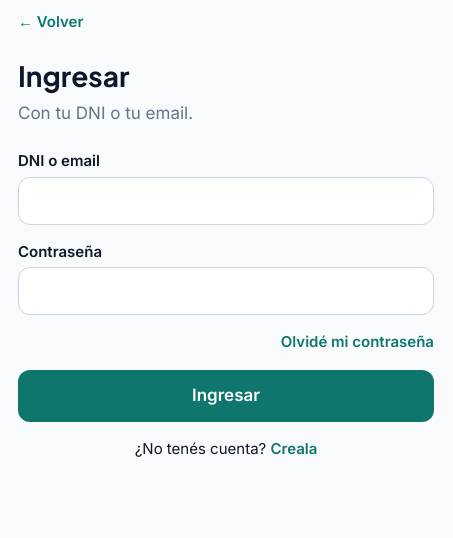
Ingreso (CU-03) › credenciales incorrectas: mensaje genérico
This screenshot has width=453, height=538.
Type "30123456" into the field labelled "DNI o email". click: (226, 200)
box: [18,176,434,224]
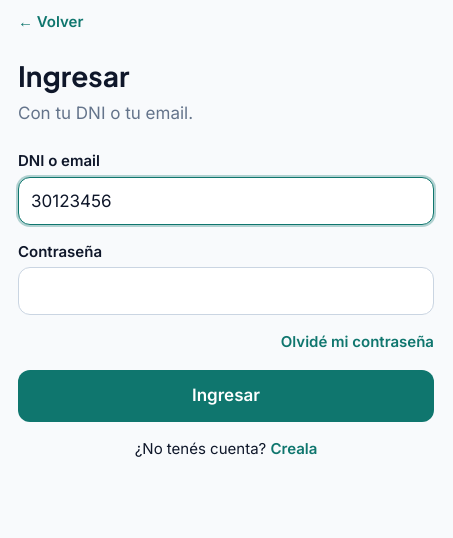
Type "mala" into the password field labelled "Contraseña". click: (226, 291)
box: [18,267,434,315]
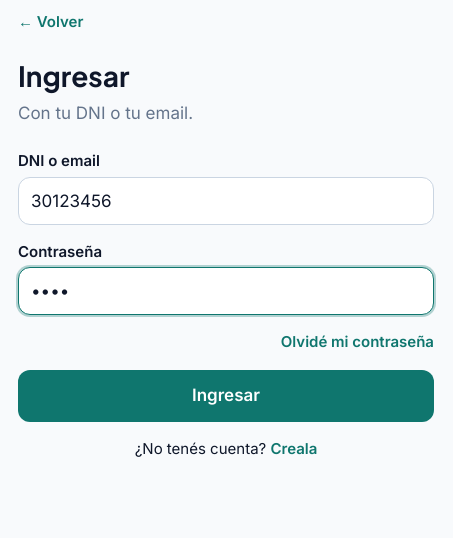
Click the button "Ingresar". click: (226, 396)
box: [18,370,434,422]
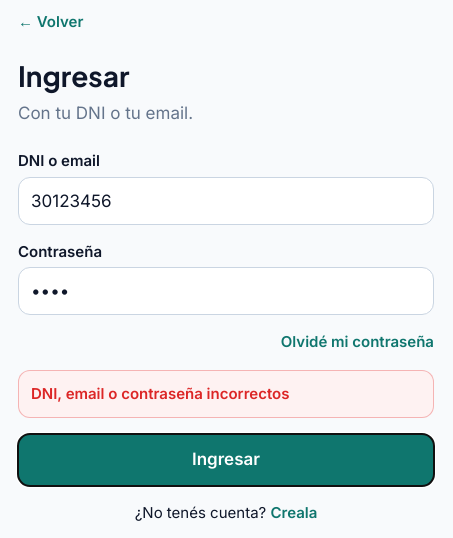
Check: the message reads "DNI, email o contraseña incorrectos", box [31,384,290,402]
